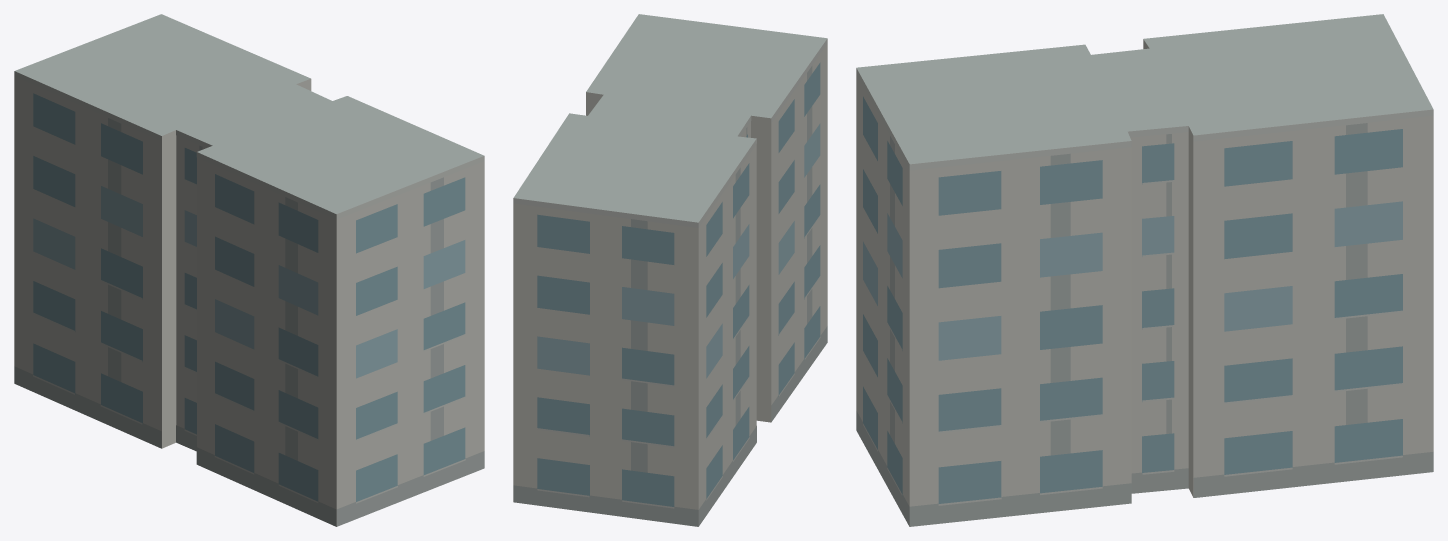
The model's file is survey-upis-32806901.glb.
The picture shows the model from 3 angles, left to right: view 1: azimuth 30°, elevation 25°; view 2: azimuth 150°, elevation 25°; view 3: azimuth 270°, elevation 25°; orthographic projection. The views are drawn at different scales.
Parts seen in each view (by area): view 1: survey-upis-32806901.tmp; view 2: survey-upis-32806901.tmp; view 3: survey-upis-32806901.tmp.
Boxes of the visible parts, left/top/right/bottom form: survey-upis-32806901.tmp: left=14, top=14, right=484, bottom=526; survey-upis-32806901.tmp: left=513, top=14, right=827, bottom=526; survey-upis-32806901.tmp: left=856, top=14, right=1433, bottom=526.
Bounding box in the file's own units: 12.37 × 13.9 × 20.07.
